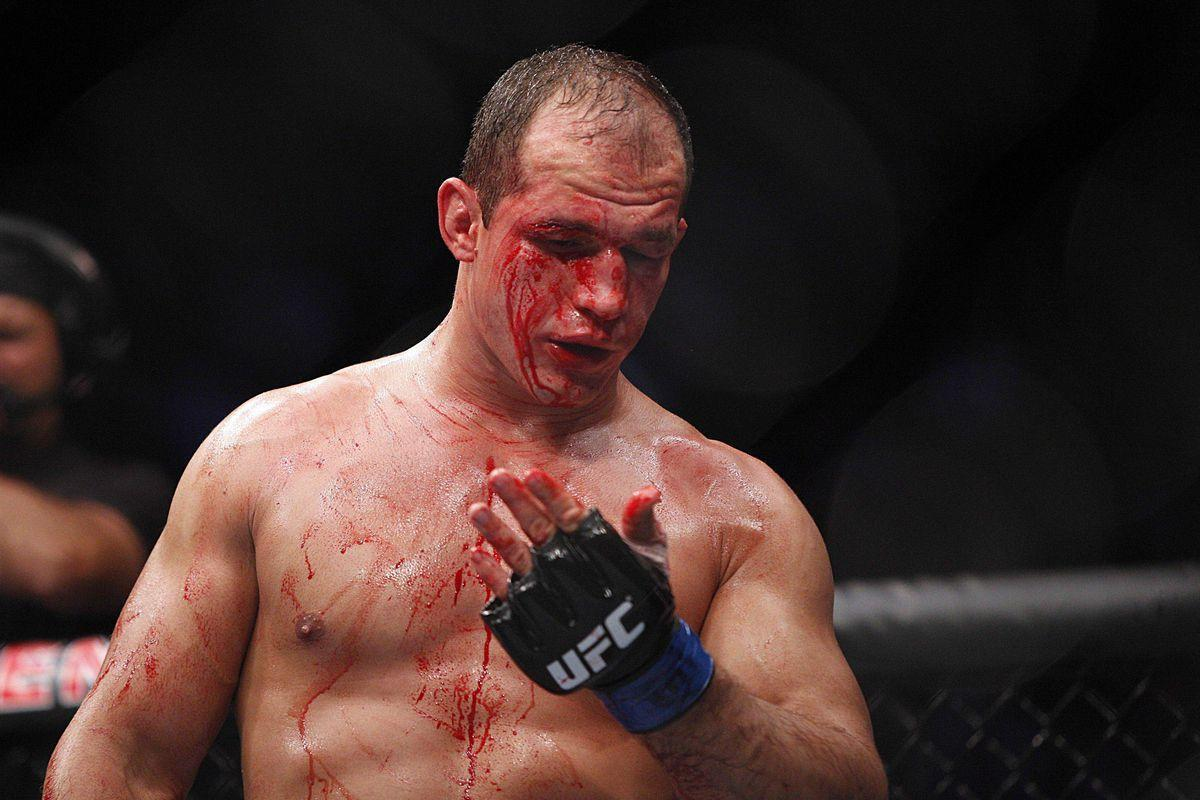Fire: (46, 198, 674, 798)
